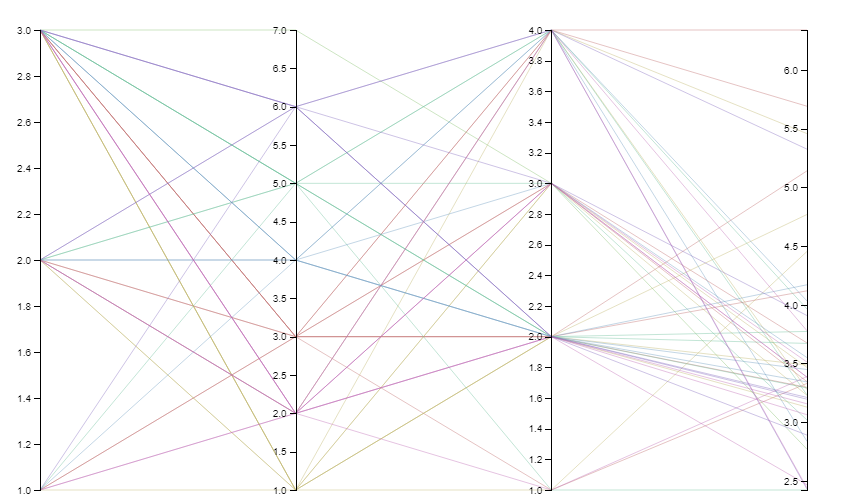

The dashboard page shown, as its layout file describes it:
{"tool":"tableau","page":{"name":"Dashboard 1","canvas":[1560,800],"ordinal":0},"visuals":[{"type":"worksheet","title":"Sheet 1","mark":"Automatic","rows":["Call Type"],"cols":["Neighborhooods - Analysis Boundaries"],"box":[8,8,1544,784]},{"type":"legend","title":"Sheet 1","param":"[federated.0zl60b91ssrl7314vuj1e0ls7oev].[avg:Calculation_735845996843577344:qk]","box":[1387,16,130,76]}]}

Visuals, with their boxes on the page's 1560x800 design canvas (x1, y1, x2, y2). These are canvas units, not pixel positions in the 847x500 screenshot, which may show the page scaled, cropped or inside an application window:
"Sheet 1" worksheet: l=8, t=8, r=1552, b=792
"Sheet 1" legend: l=1387, t=16, r=1517, b=92
